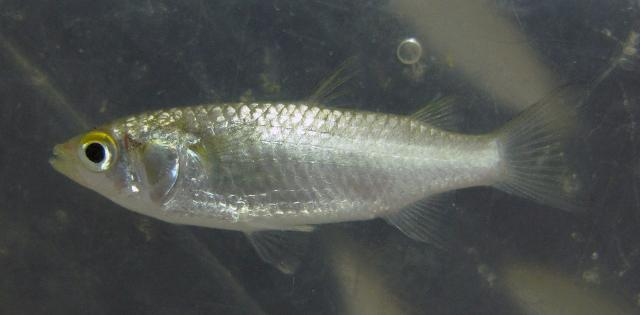Mulut: (40, 135, 82, 181)
Sirip Anal: (379, 171, 461, 253)
Sirip Dada: (184, 119, 268, 187)
Sirip Ekor: (494, 77, 604, 219)
Sirip Perut: (240, 210, 318, 280)
Sirip Punggung: (295, 45, 475, 136)
